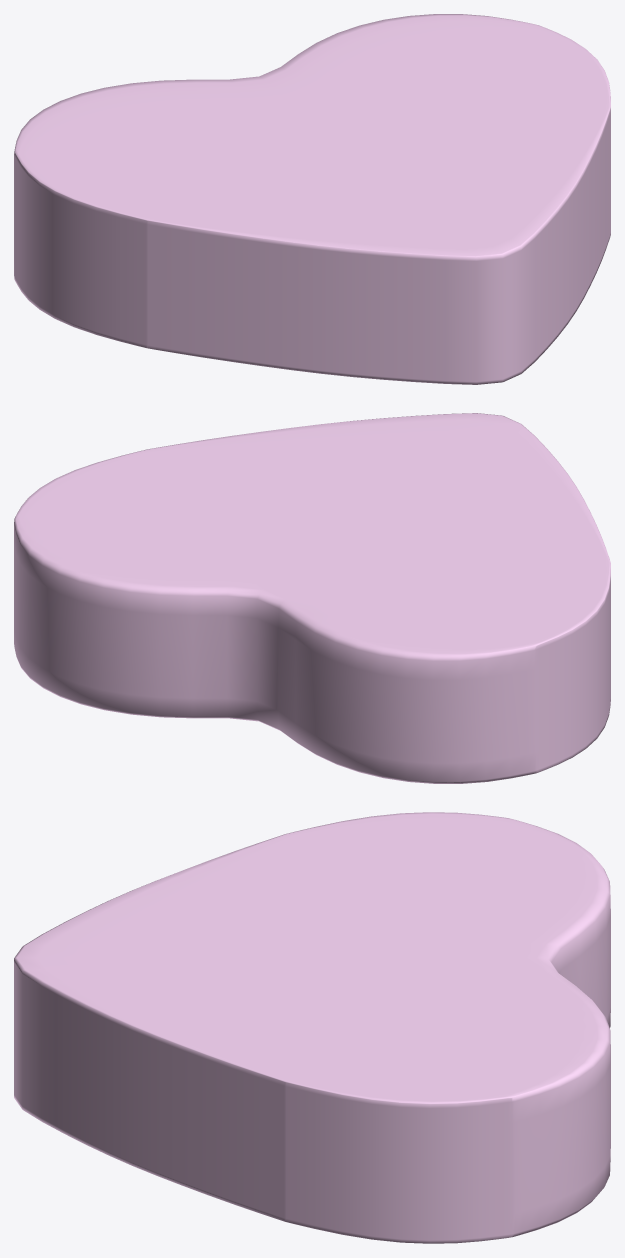
Rendered from StrawberryHeart.gltf.
The picture shows the model from 3 angles, top to bottom: view 1: azimuth 30°, elevation 25°; view 2: azimuth 150°, elevation 25°; view 3: azimuth 270°, elevation 25°; orthographic projection. The views are drawn at different scales.
Visible parts, largest first — view 1: Object_2; view 2: Object_2; view 3: Object_2.
Boxes of the visible parts, <box> form: Object_2: <box>14,14,610,384</box>; Object_2: <box>14,413,610,783</box>; Object_2: <box>14,812,610,1243</box>.
Bounding box in the file's own units: 2.36 × 0.5304 × 2.04.
